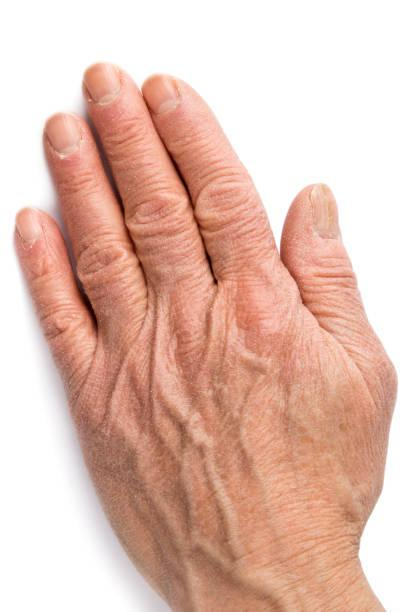Dry-Skin: (95, 295, 340, 528)
